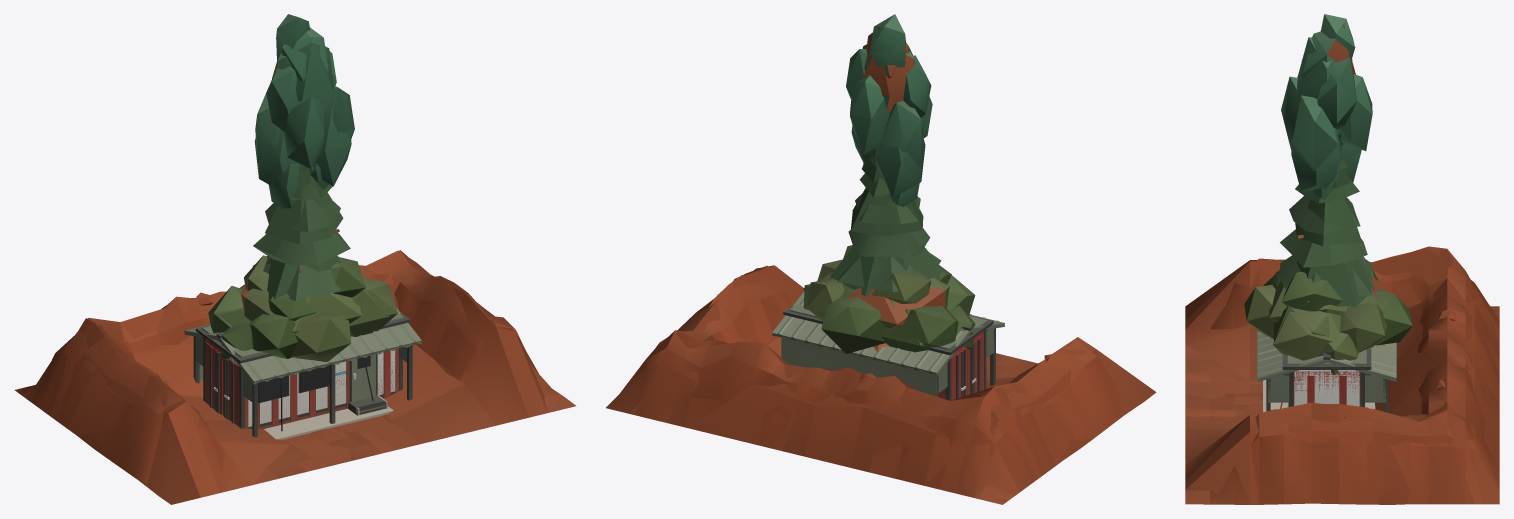
Rendered from reserve_kit.glb.
The picture shows the model from 3 angles, left to right: view 1: azimuth 30°, elevation 25°; view 2: azimuth 150°, elevation 25°; view 3: azimuth 270°, elevation 25°; orthographic projection. The views are drawn at different scales.
Visible parts, largest first — view 1: berm_pit_red_far, berm_pit_red, tree_oak, tree_eucalyptus, tree_pine, tree_eucalyptus_far, container_cabin, corrugated_shed_far, corrugated_shed, shipping_container, tree_oak_far, container_cabin_far (+2 smaller); view 2: berm_pit_red, berm_pit_red_far, tree_oak, tree_eucalyptus, corrugated_shed_far, tree_pine, tree_pine_far, tree_eucalyptus_far, tree_oak_far, corrugated_shed, shipping_container, container_cabin; view 3: berm_pit_red, berm_pit_red_far, tree_oak, tree_eucalyptus, tree_pine, tree_pine_far, tree_eucalyptus_far, corrugated_shed, container_cabin_far, corrugated_shed_far, tree_oak_far, container_cabin (+2 smaller).
Boxes of the visible parts, left/top/right/bottom form: berm_pit_red_far: left=14, top=250, right=547, bottom=504; berm_pit_red: left=15, top=250, right=575, bottom=502; tree_oak: left=208, top=255, right=397, bottom=361; tree_eucalyptus: left=255, top=14, right=354, bottom=208; tree_pine: left=253, top=165, right=350, bottom=300; tree_eucalyptus_far: left=254, top=41, right=351, bottom=186; container_cabin: left=196, top=311, right=410, bottom=428; corrugated_shed_far: left=184, top=308, right=421, bottom=438; corrugated_shed: left=184, top=324, right=421, bottom=439; shipping_container: left=206, top=339, right=398, bottom=429; tree_oak_far: left=220, top=278, right=389, bottom=336; container_cabin_far: left=210, top=312, right=409, bottom=426; berm_pit_red: left=620, top=265, right=1152, bottom=504; berm_pit_red_far: left=606, top=265, right=1156, bottom=504; tree_oak: left=803, top=245, right=975, bottom=353; tree_eucalyptus: left=846, top=14, right=932, bottom=206; corrugated_shed_far: left=772, top=291, right=1004, bottom=396; tree_pine: left=837, top=154, right=941, bottom=351; tree_pine_far: left=830, top=149, right=944, bottom=296; tree_eucalyptus_far: left=851, top=44, right=925, bottom=197; tree_oak_far: left=820, top=261, right=955, bottom=352; corrugated_shed: left=772, top=287, right=1004, bottom=396; shipping_container: left=945, top=331, right=983, bottom=400; container_cabin: left=783, top=304, right=993, bottom=400; berm_pit_red: left=1185, top=246, right=1499, bottom=504; berm_pit_red_far: left=1185, top=250, right=1499, bottom=504; tree_oak: left=1244, top=256, right=1412, bottom=374; tree_eucalyptus: left=1281, top=14, right=1372, bottom=202; tree_pine: left=1279, top=159, right=1372, bottom=302; tree_pine_far: left=1295, top=155, right=1385, bottom=345; tree_eucalyptus_far: left=1291, top=37, right=1361, bottom=191; corrugated_shed: left=1257, top=332, right=1396, bottom=412; container_cabin_far: left=1273, top=347, right=1370, bottom=409; corrugated_shed_far: left=1257, top=330, right=1396, bottom=412; tree_oak_far: left=1269, top=276, right=1384, bottom=340; container_cabin: left=1270, top=347, right=1371, bottom=410.
Bounding box in the file's own units: 15.2 × 15.56 × 10.2.
